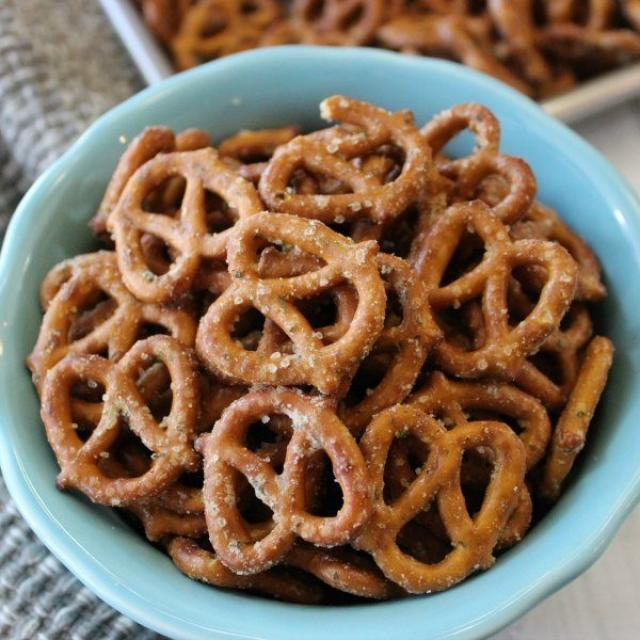Salatini: (37, 100, 629, 583)
